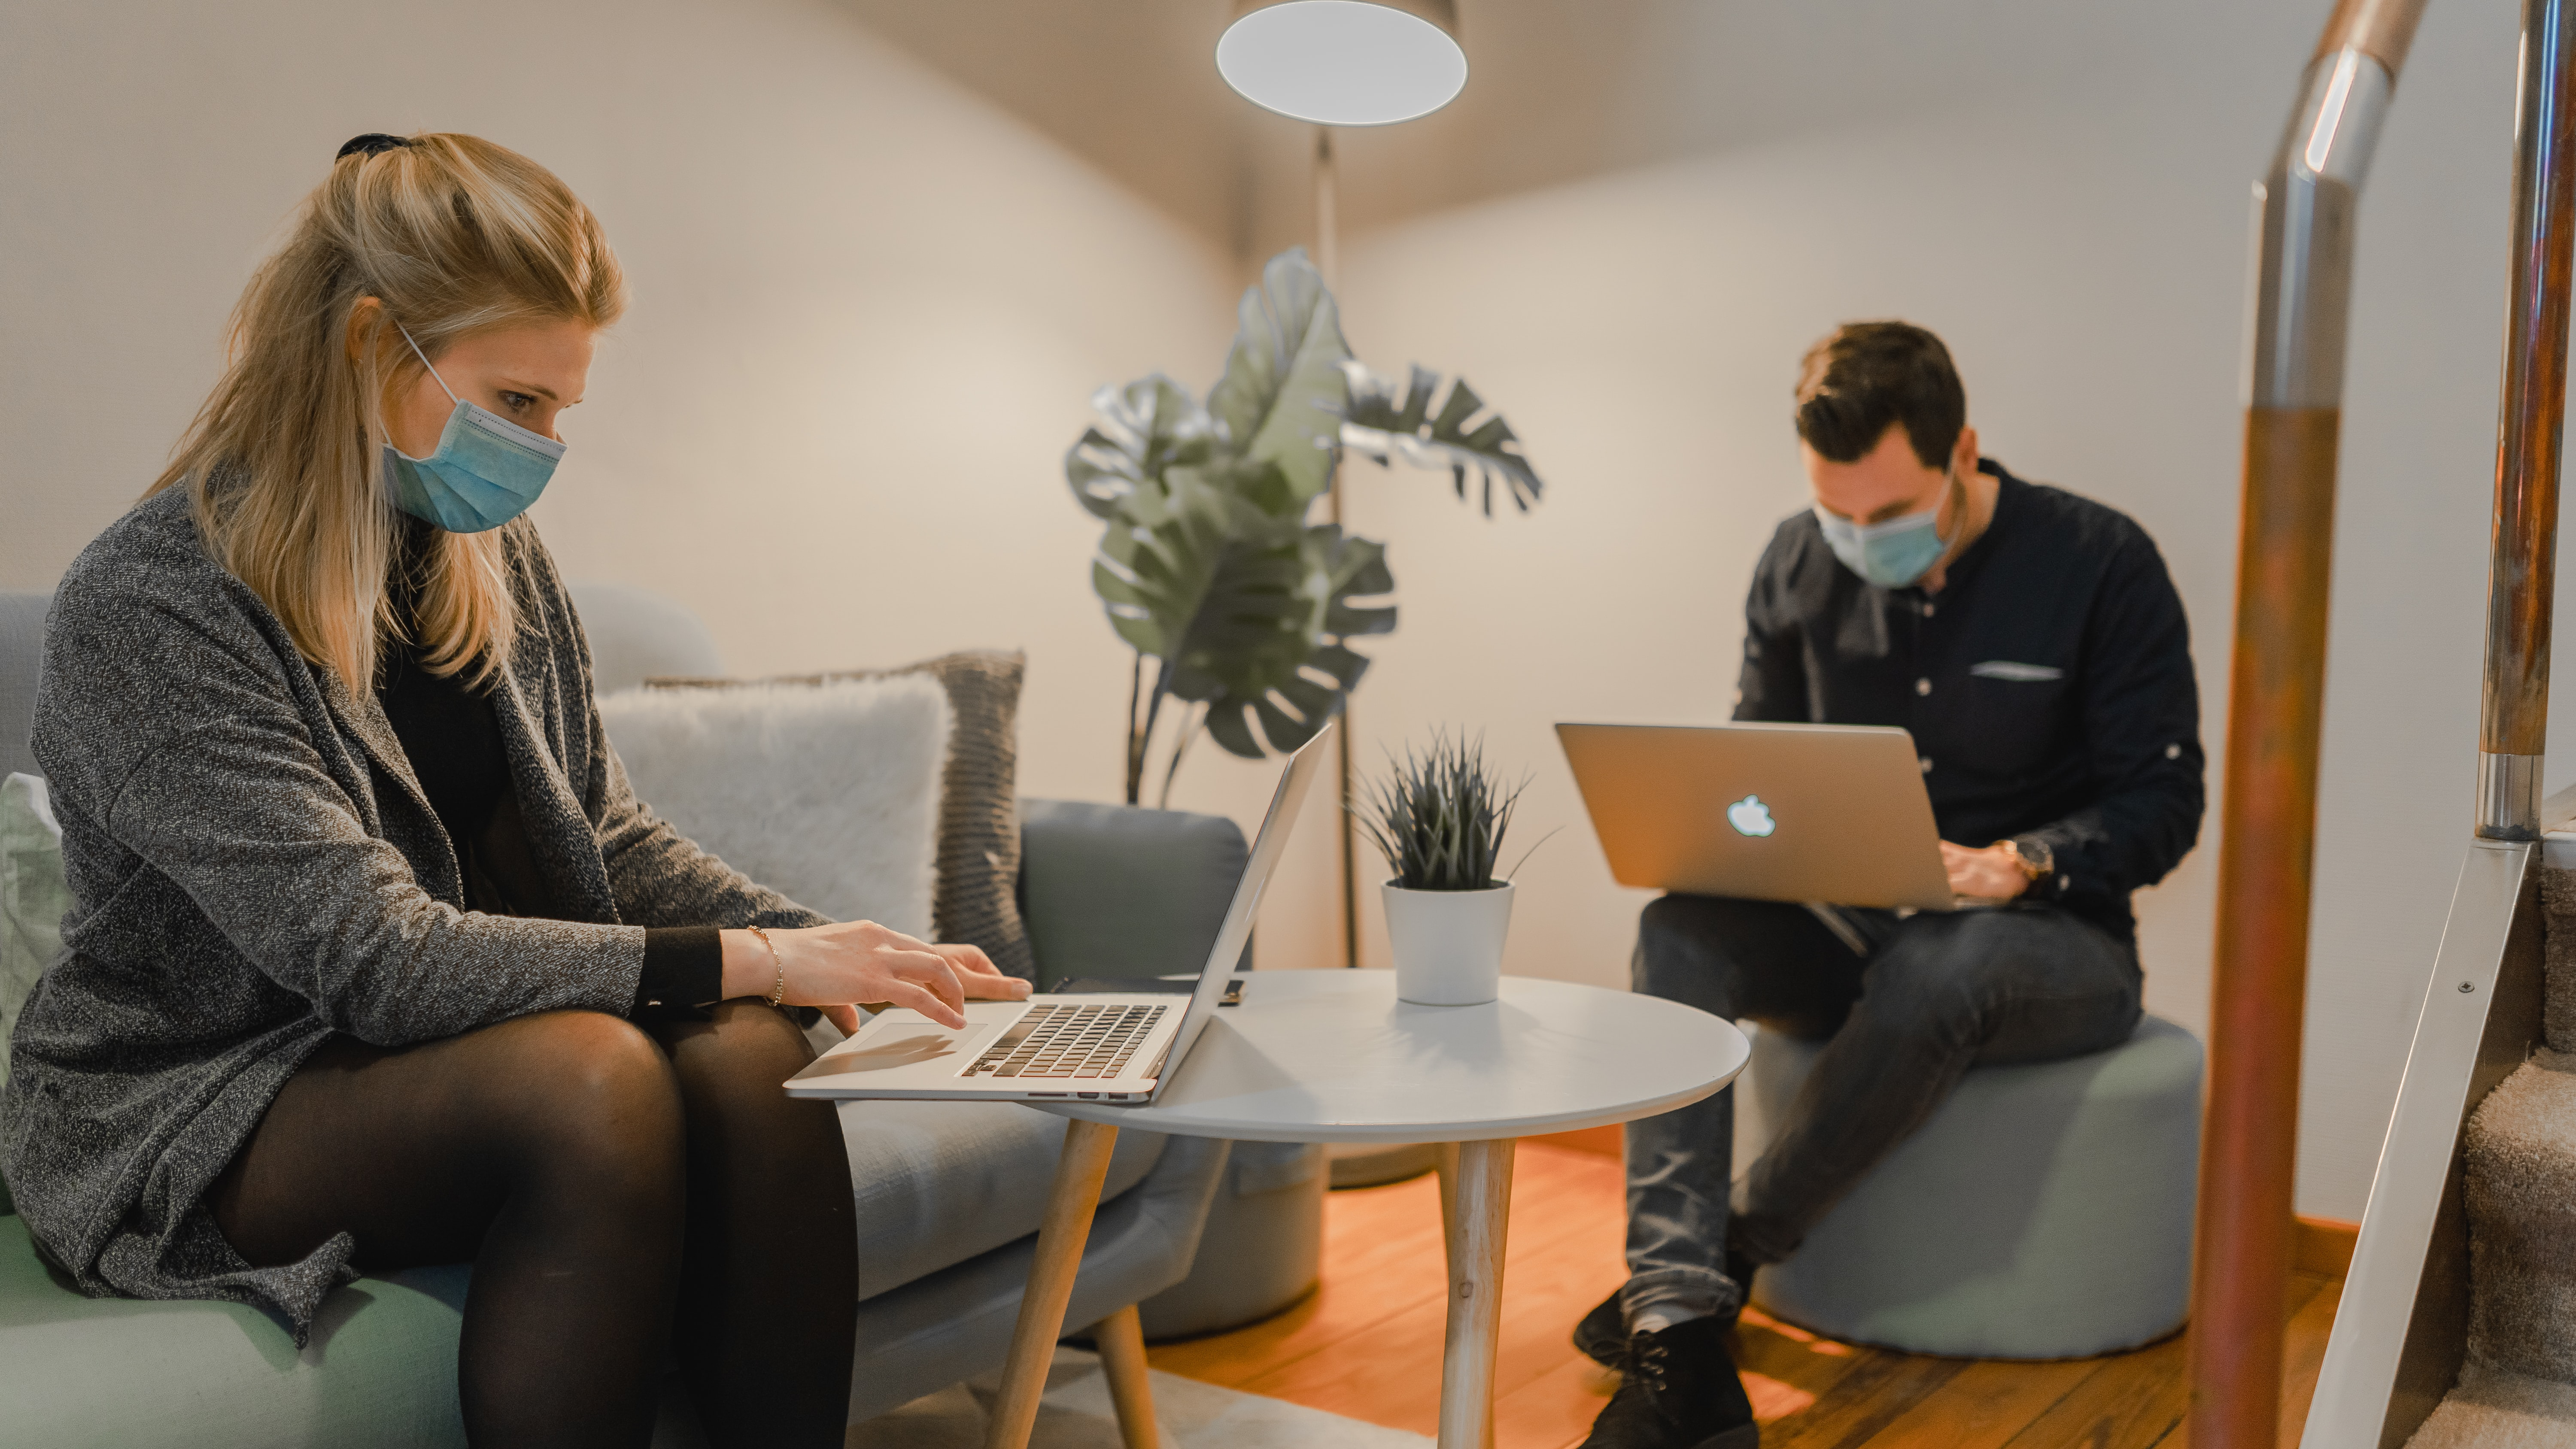mask: (377, 404, 568, 544), (1809, 501, 1953, 602)
person: (26, 111, 928, 1423), (1601, 281, 2212, 1449)
